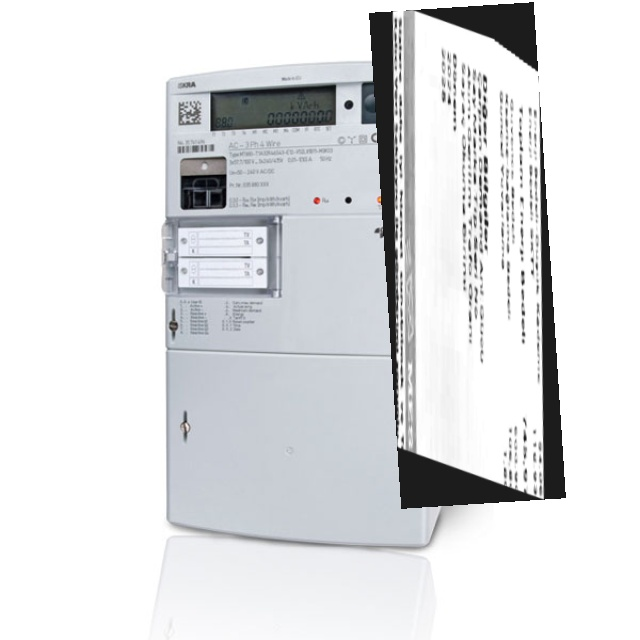electricity-bill: (369, 2, 566, 509)
